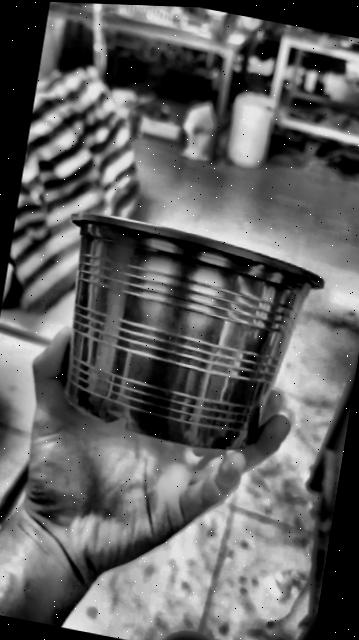pot: (64, 212, 321, 448)
